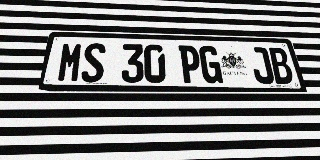0: (144, 44, 166, 83)
3: (121, 44, 143, 83)
B: (267, 47, 295, 84)
G: (199, 46, 223, 83)
J: (248, 47, 275, 84)
M: (56, 42, 84, 82)
P: (178, 45, 202, 83)
S: (80, 43, 106, 83)
